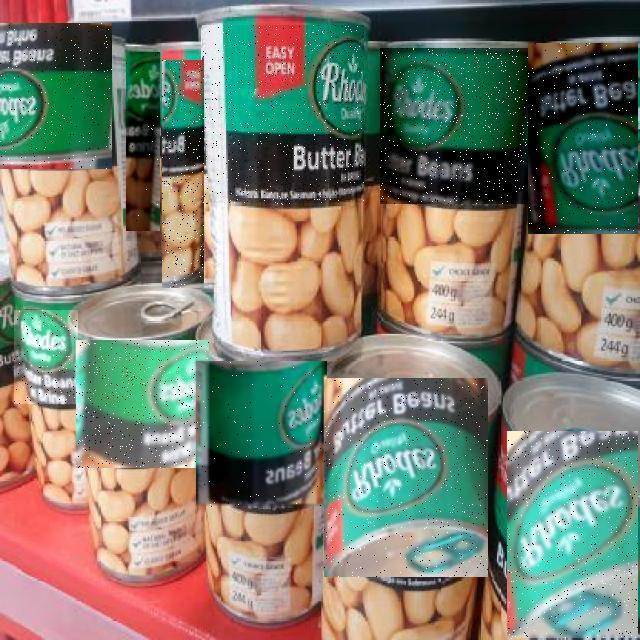Beans: (324, 378, 488, 577), (202, 26, 364, 206), (507, 432, 638, 640), (381, 48, 529, 204), (528, 43, 638, 234), (196, 362, 327, 508), (76, 341, 209, 469), (0, 23, 112, 169), (162, 60, 204, 288), (126, 52, 160, 231), (14, 311, 78, 405)
